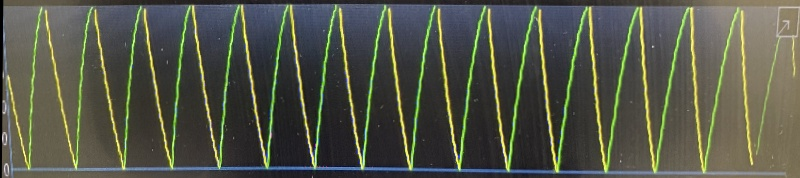normal_volume: (15, 2, 758, 175)
